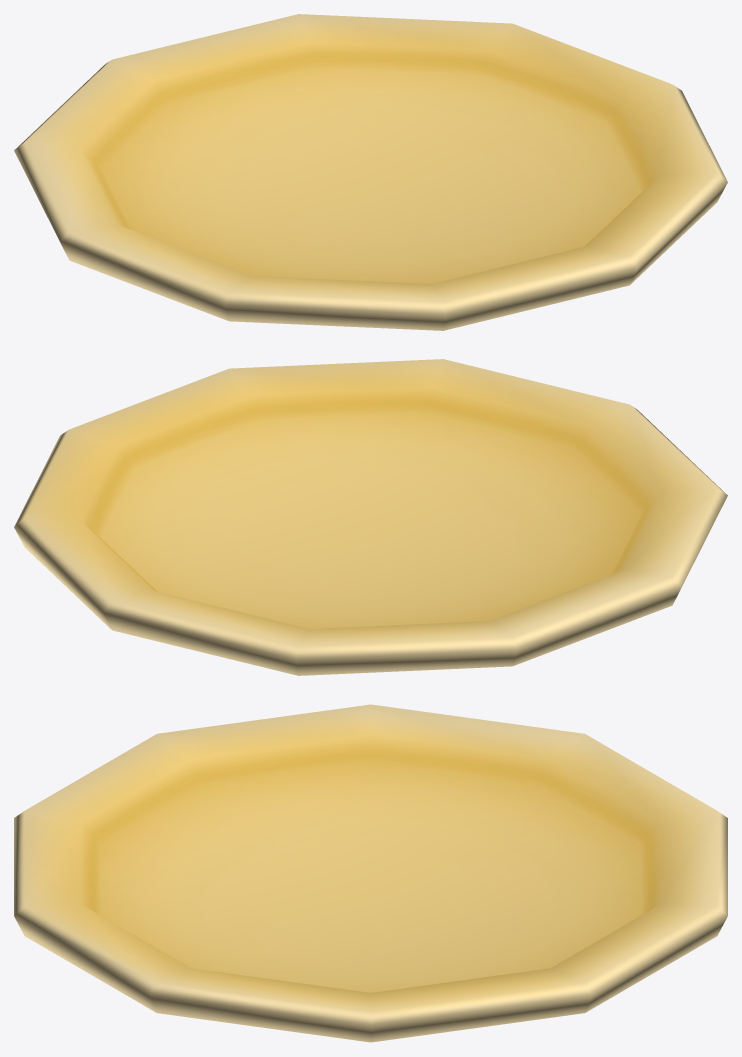
Rendered from Plate_01.fbx.
The picture shows the model from 3 angles, top to bottom: view 1: azimuth 30°, elevation 25°; view 2: azimuth 150°, elevation 25°; view 3: azimuth 270°, elevation 25°; orthographic projection. The views are drawn at different scales.
Visible parts, largest first — view 1: Plate_01; view 2: Plate_01; view 3: Plate_01.
Part boxes in pixels (left/top/right/bottom): Plate_01: left=14, top=14, right=727, bottom=330; Plate_01: left=14, top=359, right=727, bottom=675; Plate_01: left=14, top=704, right=727, bottom=1042.
Size of the model in its own units: 66.33 by 6.19 by 63.08.
